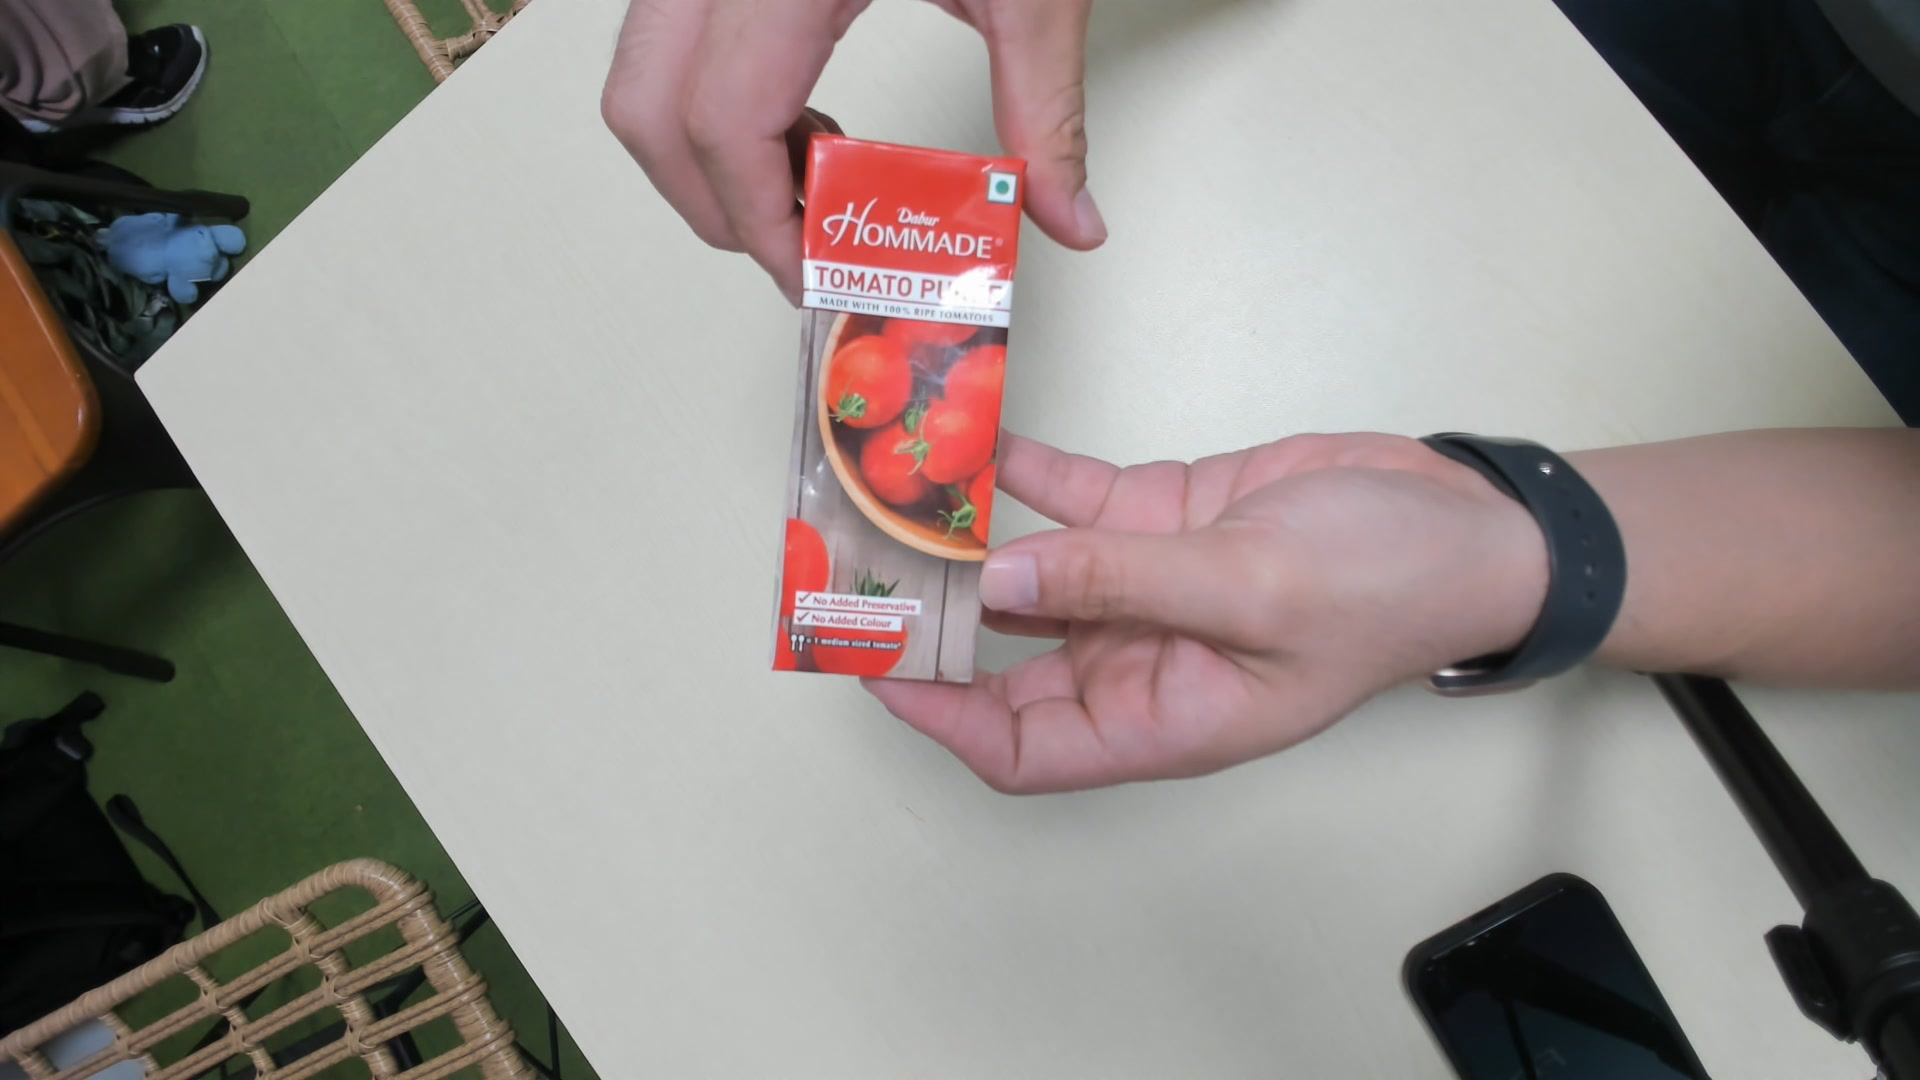OtherSauceDressing_200-299g_NonHalal_NonHealthy: (771, 128, 1023, 698)
